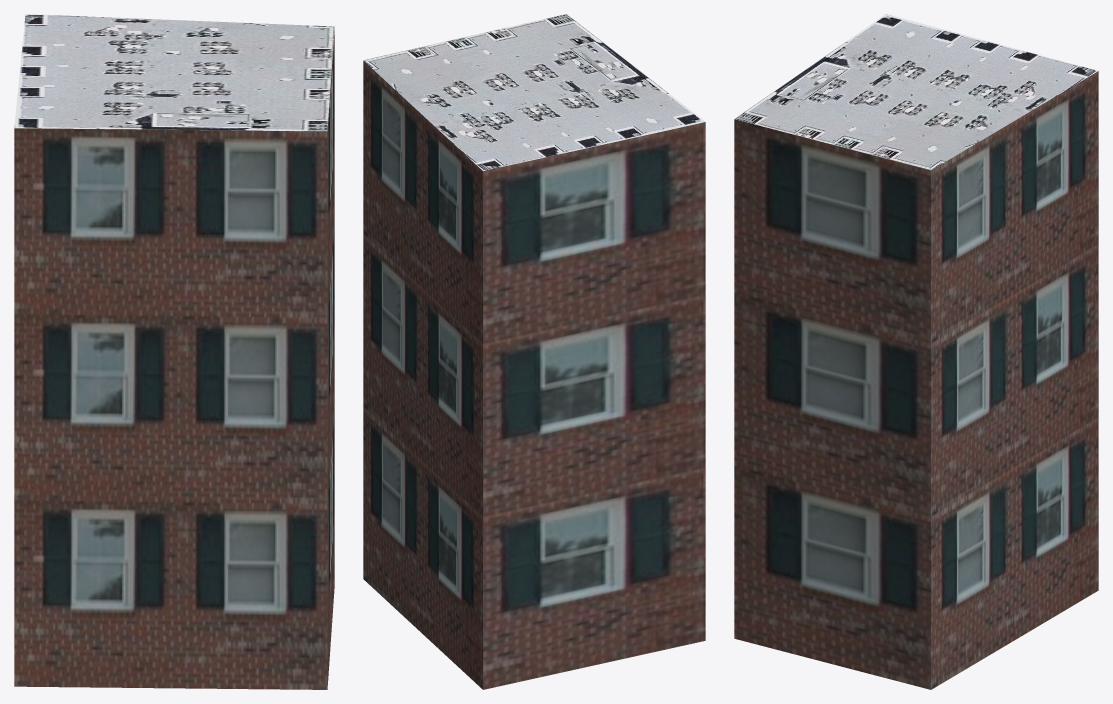
Rendered from ResTex__4417.fbx.
3 views of the same model, side by side, from view 1: azimuth 30°, elevation 25°; view 2: azimuth 150°, elevation 25°; view 3: azimuth 270°, elevation 25° (orthographic). The views are drawn at different scales.
Visible parts, largest first — view 1: CityEngineMaterial_14_m, CityEngineMaterial_m; view 2: CityEngineMaterial_14_m, CityEngineMaterial_m; view 3: CityEngineMaterial_14_m, CityEngineMaterial_m.
Part boxes in pixels (x1,y1,x2,y2): CityEngineMaterial_14_m: (14,31,334,689); CityEngineMaterial_m: (14,14,334,131); CityEngineMaterial_14_m: (363,61,705,689); CityEngineMaterial_m: (363,14,704,170); CityEngineMaterial_14_m: (734,71,1098,689); CityEngineMaterial_m: (734,14,1097,170).
Size of the model in its own units: 5.81 by 9 by 5.72.
Materials: 2 (2 with a texture image).
